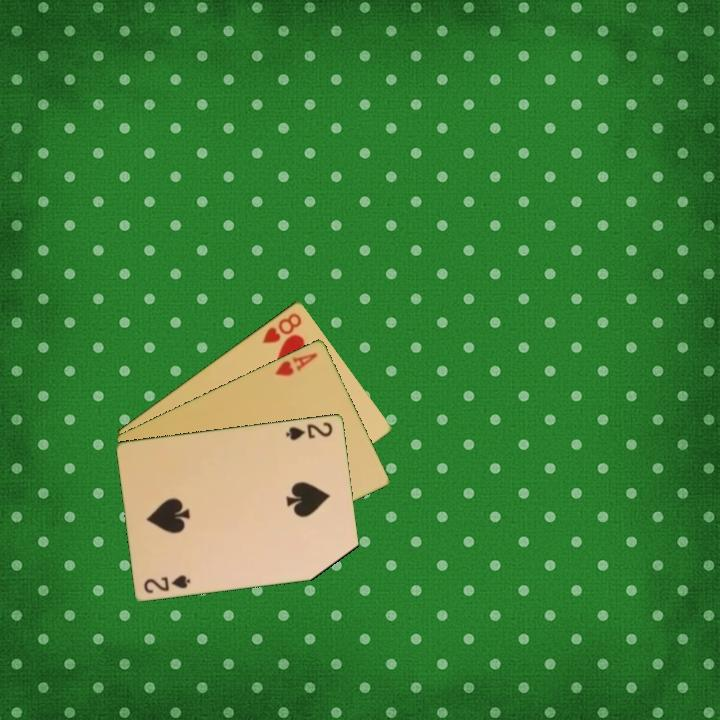2s: (282, 418, 336, 443), (140, 571, 193, 596)
8h: (259, 309, 305, 346)
Ah: (272, 349, 320, 379)
